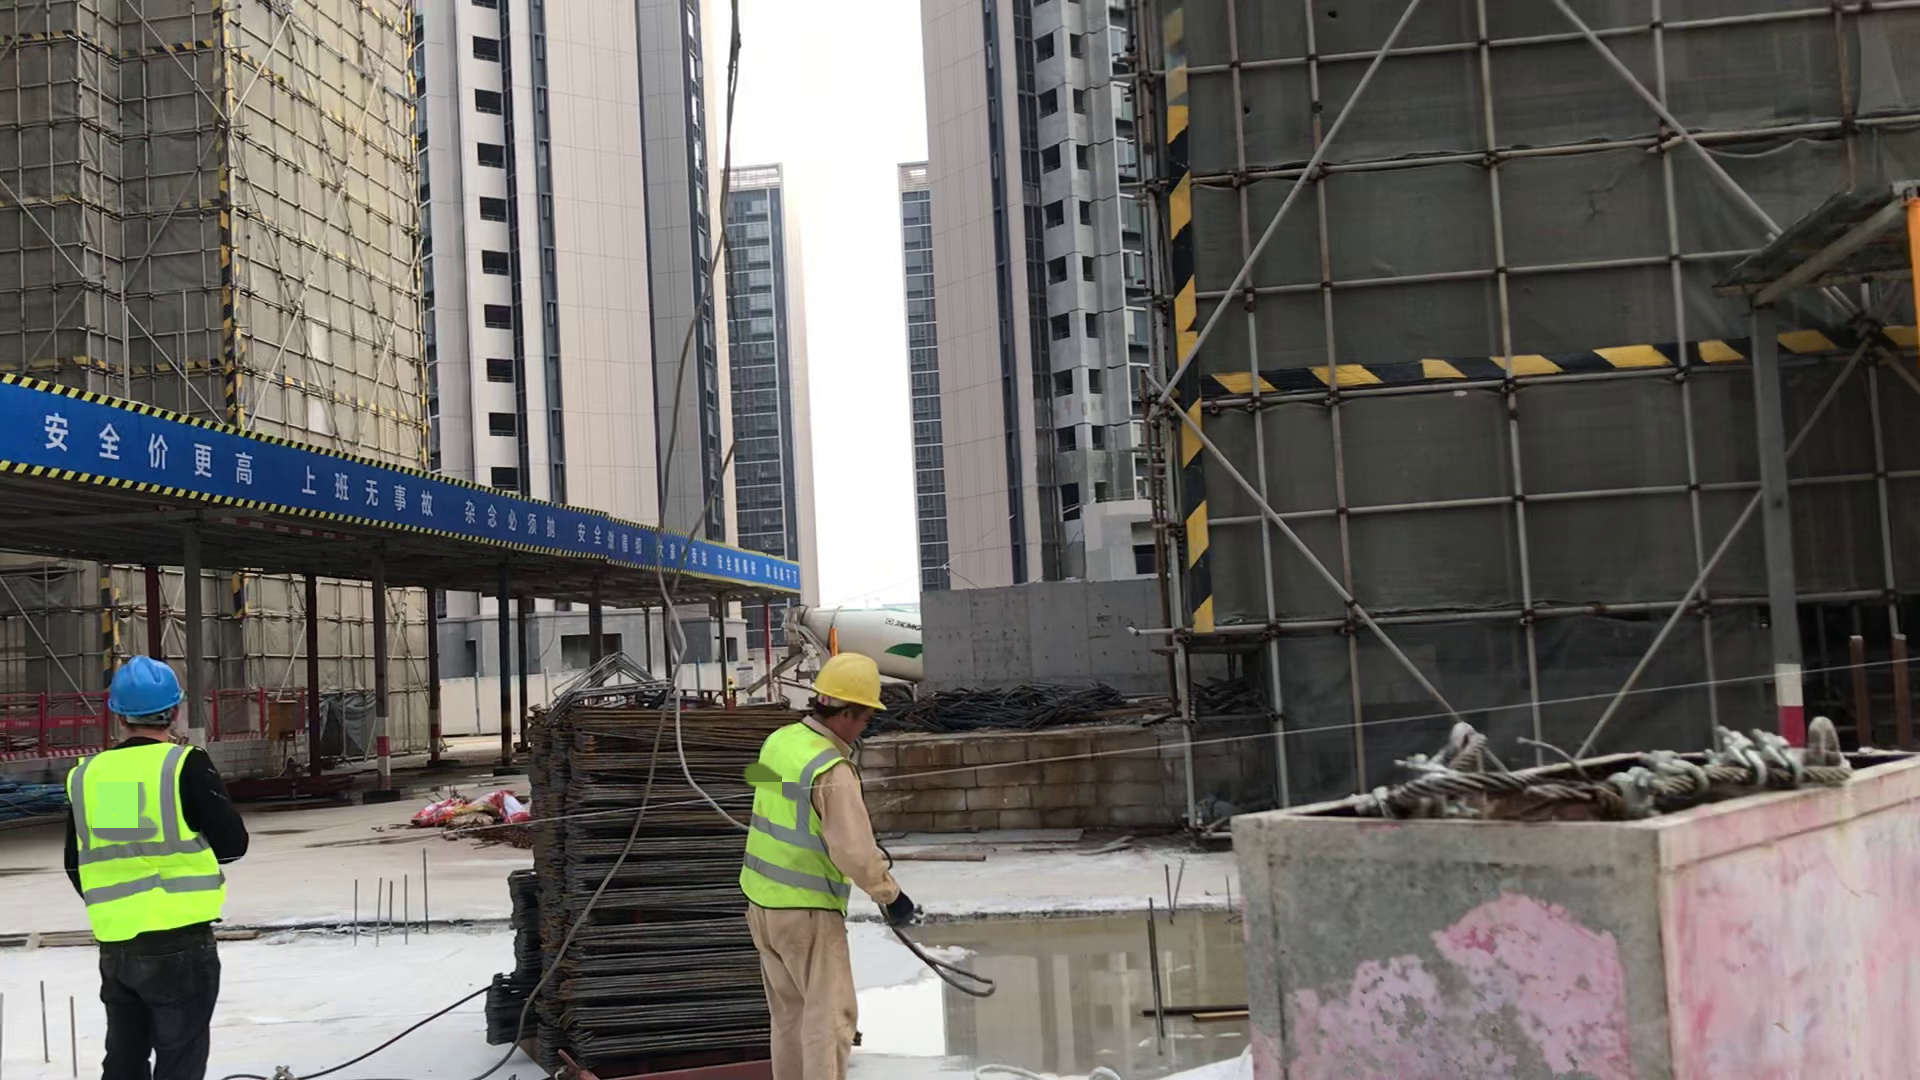helmet: (90, 650, 208, 724), (805, 649, 890, 712)
person: (739, 632, 923, 1076), (58, 647, 229, 1080)
vest: (70, 749, 217, 919), (747, 722, 845, 912)
